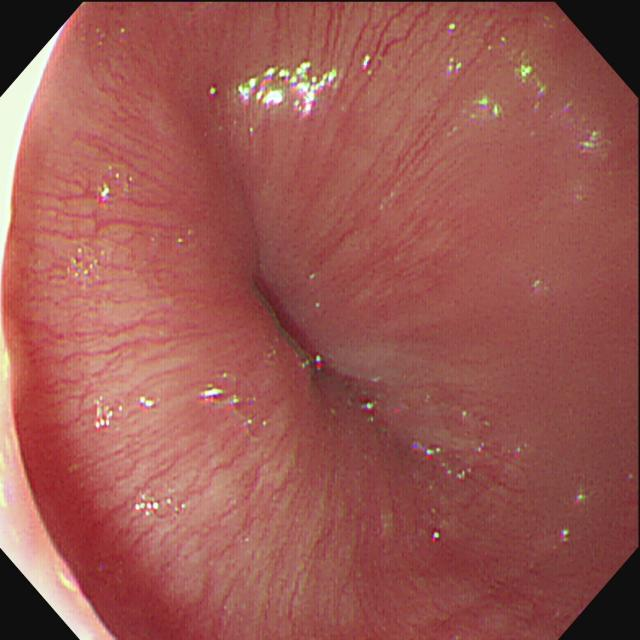T: (202, 371, 269, 442), (93, 387, 161, 435), (135, 485, 185, 528), (98, 170, 133, 204)
U: (236, 61, 341, 121), (455, 90, 506, 125), (577, 126, 612, 159), (512, 62, 546, 95), (361, 51, 383, 82), (445, 55, 467, 74), (311, 350, 327, 375)
